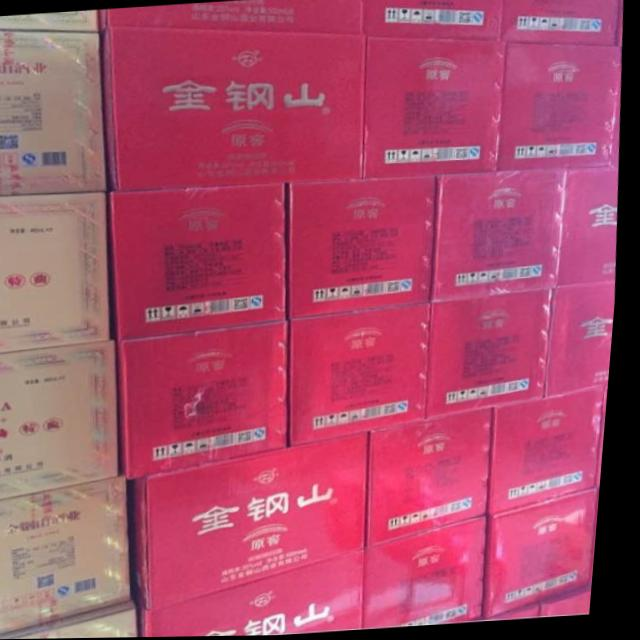box: (103, 28, 367, 193), (139, 434, 377, 611), (113, 185, 291, 340), (124, 322, 296, 482), (0, 477, 141, 638), (291, 177, 440, 320), (0, 340, 128, 500), (297, 304, 436, 448), (367, 35, 506, 179), (149, 551, 374, 638), (0, 192, 117, 353), (0, 30, 111, 195), (438, 171, 570, 303), (374, 412, 499, 550), (434, 290, 560, 422), (504, 41, 623, 174), (497, 389, 612, 518), (494, 490, 606, 620), (376, 518, 498, 631), (100, 0, 363, 35), (553, 283, 620, 400), (562, 168, 622, 288), (500, 0, 624, 49), (0, 601, 149, 640), (365, 0, 503, 40), (0, 10, 99, 35)
